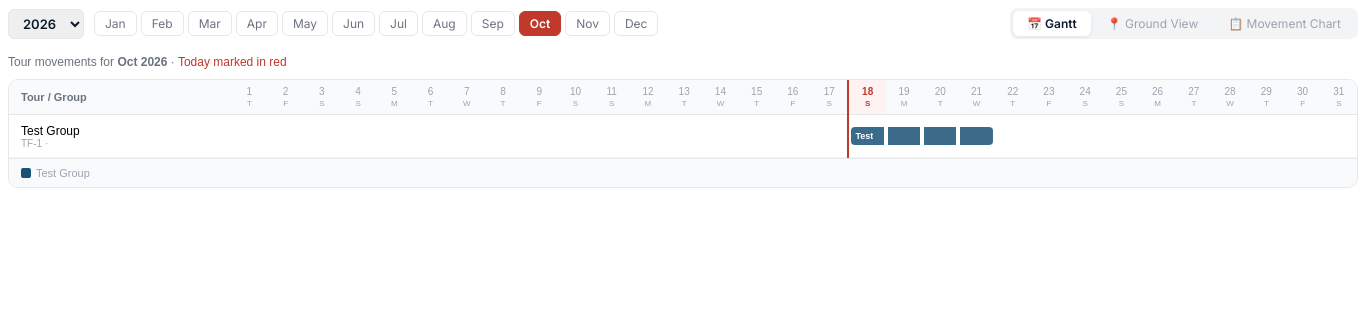
Test: Movement Chart field selector › clicking Columns reveals the checklist with all 5 optional fields
Click the button "📋 Movement Chart" at (1285, 24), box 1214,11 -> 1355,36
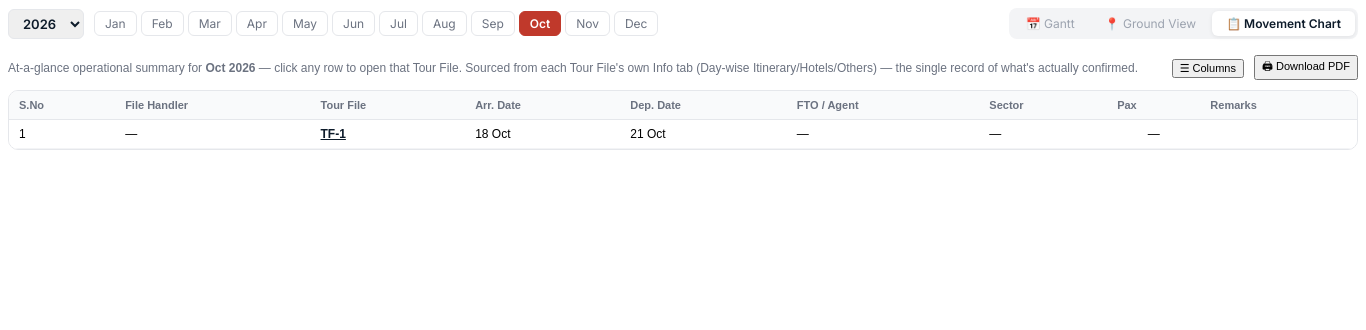
Click the button "☰ Columns" at (1208, 68), box 1172,58 -> 1244,78
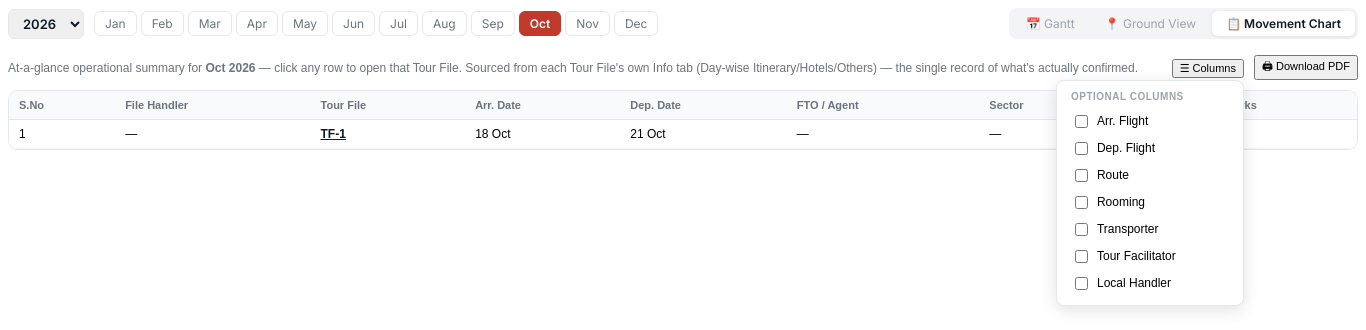
Check: the text "Arr. Flight" is shown, box 1075,114 -> 1148,128
Check: the text "Dep. Flight" is shown, box 1075,141 -> 1155,155
Check: the text "Route" is shown, box 1075,168 -> 1129,182
